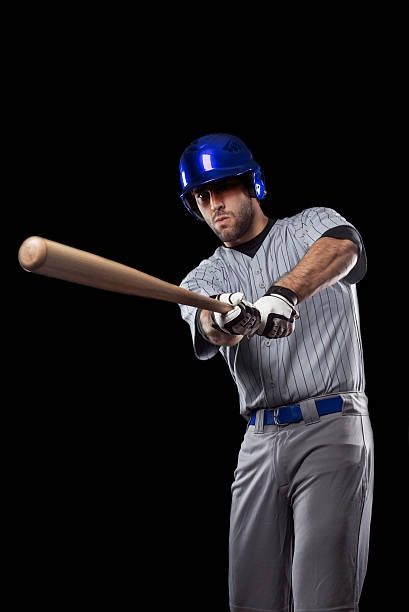bita: (17, 235, 279, 323)
